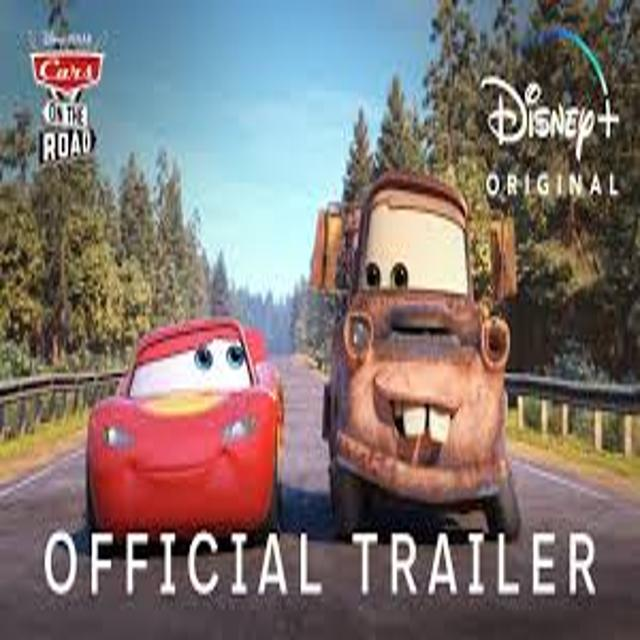car: (311, 172, 520, 539), (86, 319, 283, 542)
